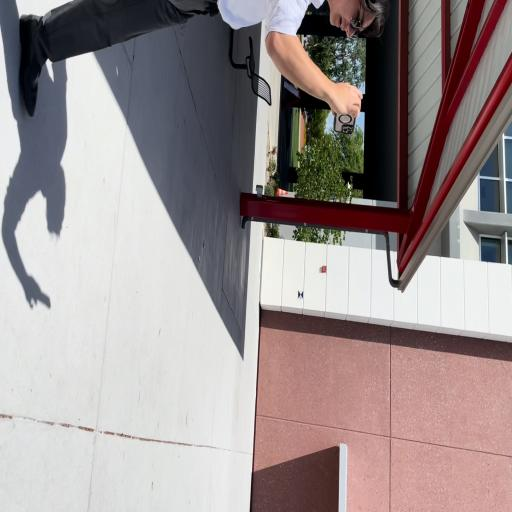target9: (298, 290, 304, 300)
